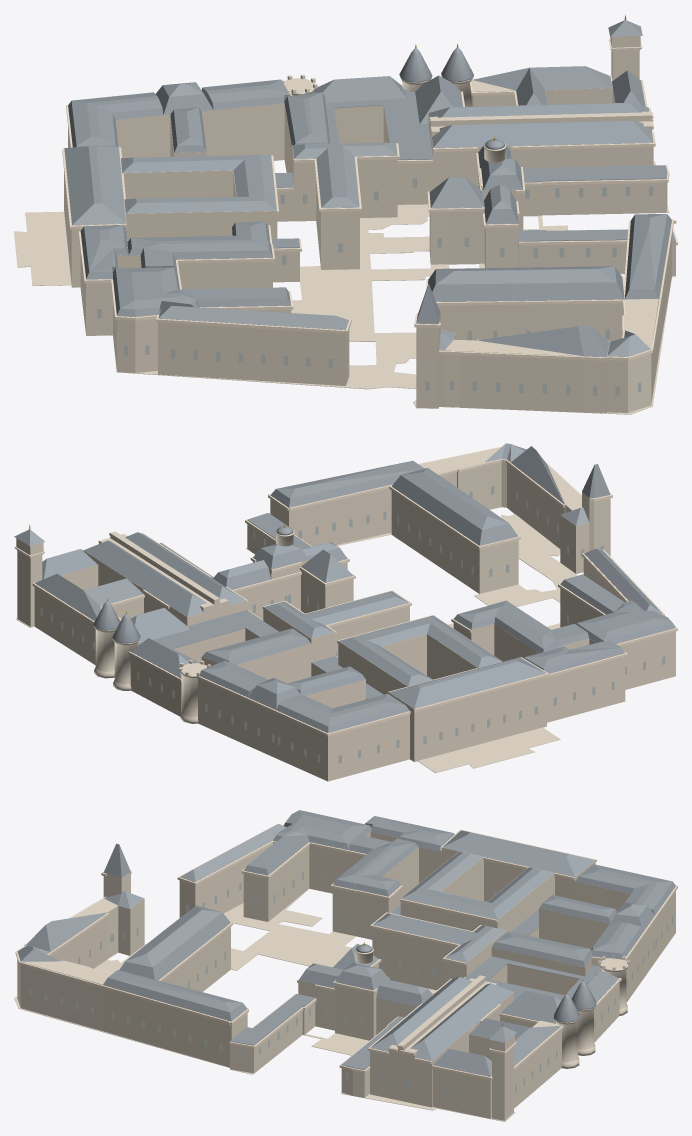
The picture shows the model from 3 angles, top to bottom: view 1: azimuth 30°, elevation 25°; view 2: azimuth 150°, elevation 25°; view 3: azimuth 270°, elevation 25°; orthographic projection. The views are drawn at different scales.
Visible parts, largest first — view 1: stone, roof, trim, window; view 2: stone, roof, trim, window; view 3: stone, roof, trim, window.
Part boxes in pixels (x1,y1,x2,y2): stone: (14,36,675,414); roof: (64,20,675,356); trim: (62,39,677,360); window: (65,143,671,395); stone: (16,447,675,781); roof: (14,443,675,732); trim: (14,446,677,736); window: (40,486,665,763); stone: (14,830,675,1121); roof: (17,810,675,1076); trim: (15,818,677,1080); window: (18,868,672,1102).
Bounding box in the file's own units: 242 × 42.05 × 258.
